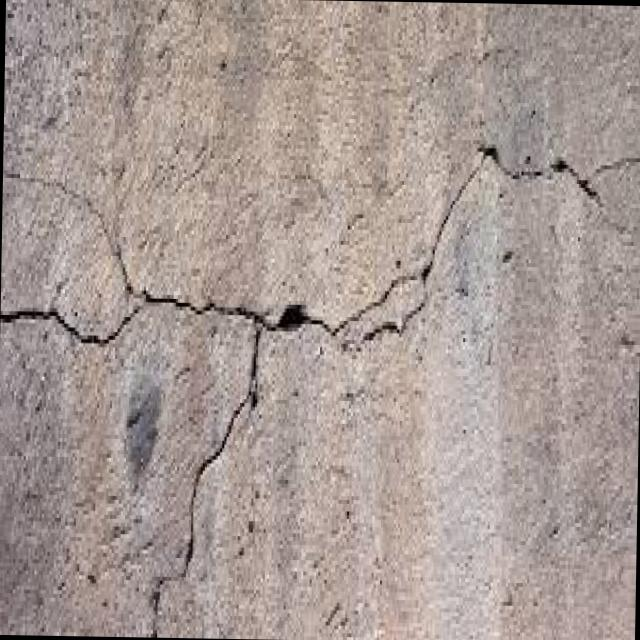crack: (255, 132, 640, 348), (150, 317, 256, 635), (0, 162, 144, 298), (0, 287, 256, 345)
